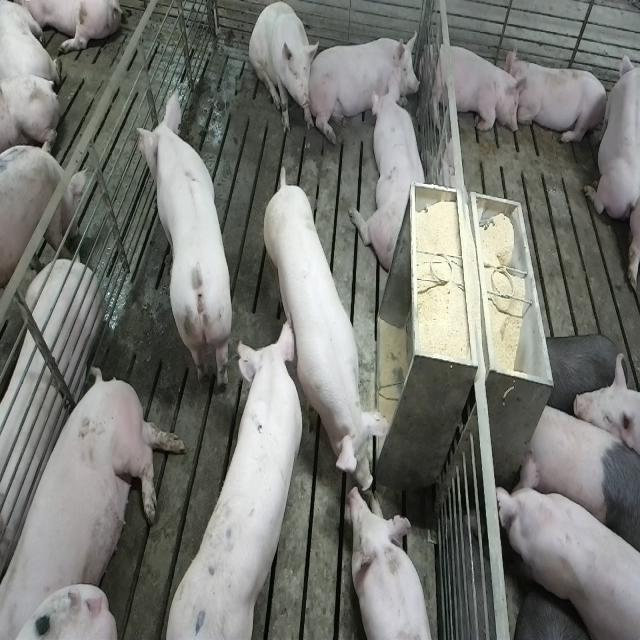Lateral_lying: (4, 368, 187, 640), (0, 258, 103, 581)
Sitting: (250, 3, 318, 138)
Standing: (158, 327, 305, 640), (262, 170, 389, 492), (135, 96, 235, 396), (498, 462, 638, 640), (522, 396, 638, 573), (0, 144, 88, 365)
Sternal_lying: (356, 82, 430, 274), (350, 483, 438, 638), (313, 28, 420, 137), (425, 38, 523, 139), (584, 41, 638, 223), (509, 51, 609, 149)
